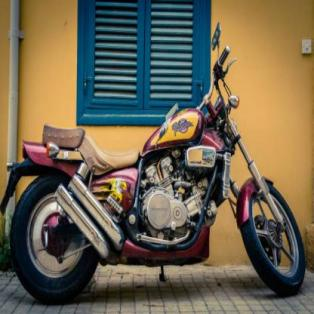Motocicleta: (1, 13, 308, 305)
